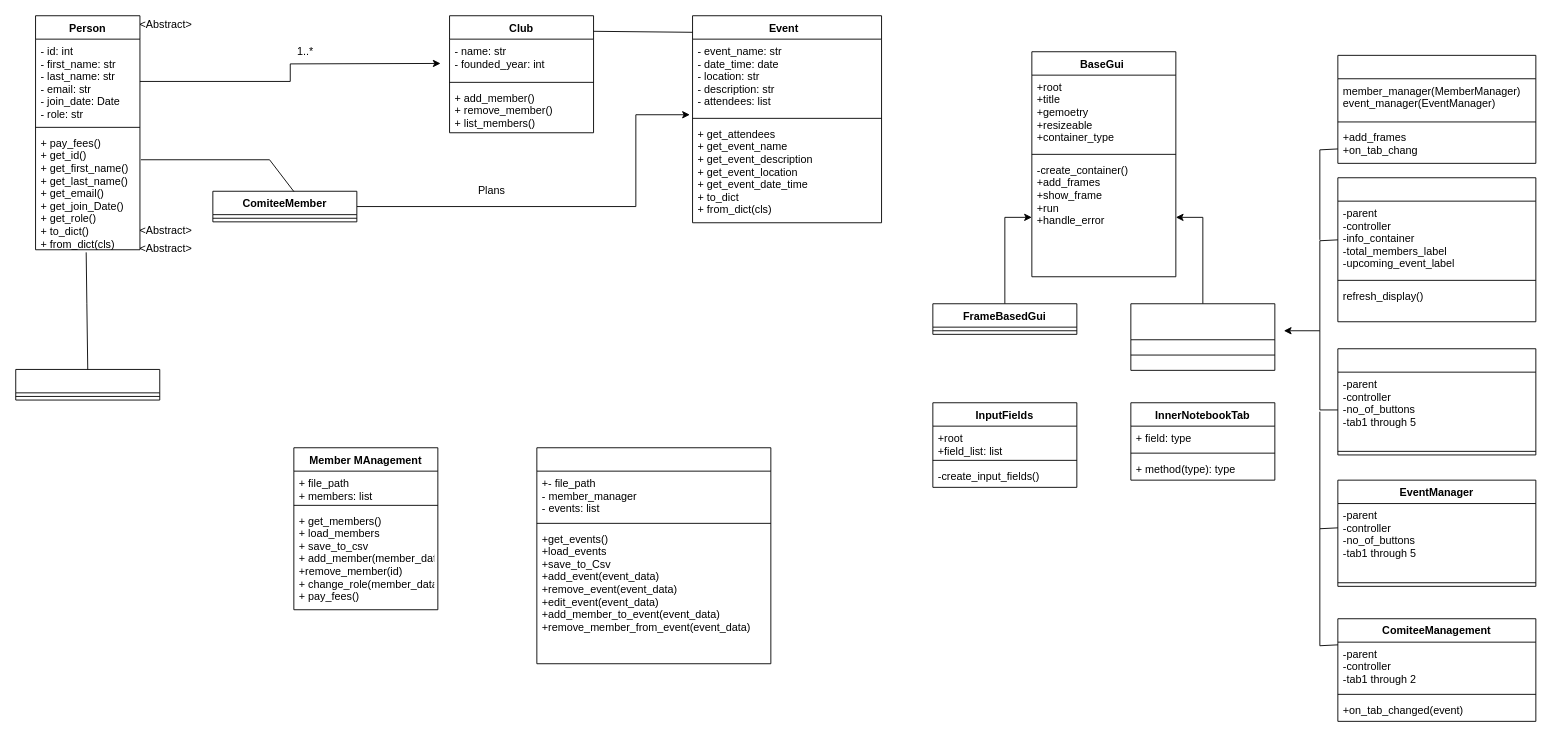
Some shapes in this 1552 by 740 pixel diagram are drawn without their labels. The shapes that lost their labels are listed below. From the top down, each one's box as (x1, y1, x2, y2) in pixels, then its label:
(1337, 54, 1536, 163): Club Management App
(1337, 177, 1536, 322): GeneralInfo
(1130, 303, 1275, 370): NoteBook BasedGui
(15, 369, 160, 400): Member
(1337, 348, 1536, 455): ManageMember
(536, 447, 771, 664): Event Management
